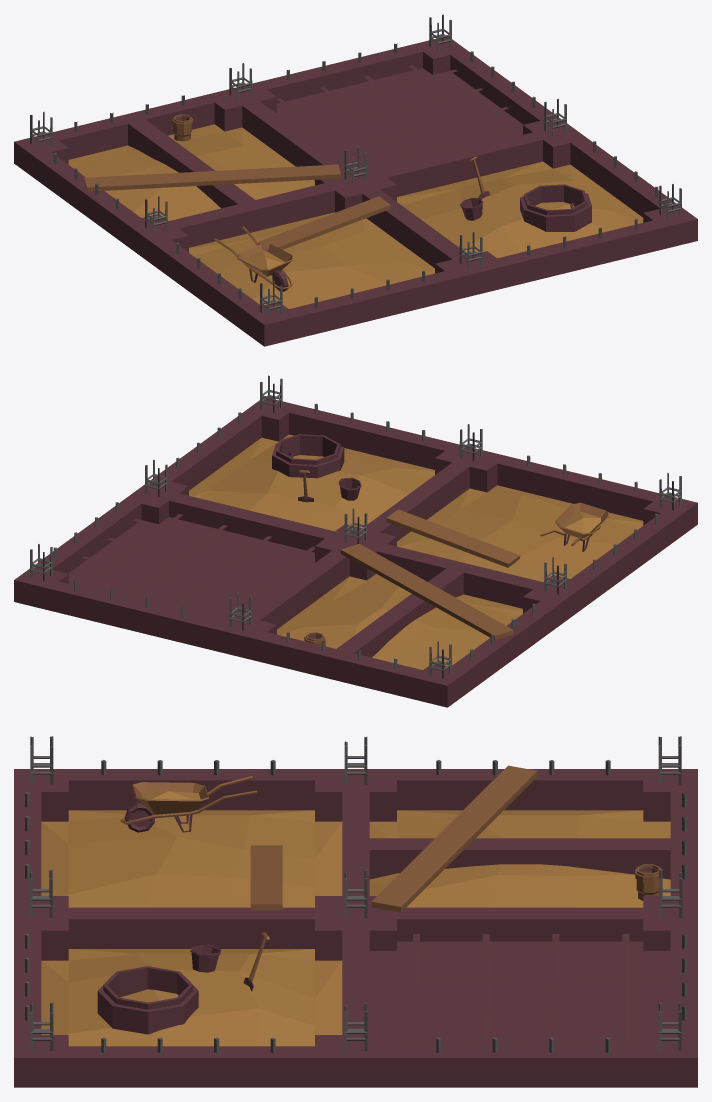
The model's file is construction-contruction-small.glb.
3 renders of one model, top to bottom at view 1: azimuth 30°, elevation 25°; view 2: azimuth 150°, elevation 25°; view 3: azimuth 270°, elevation 25°, orthographic. The views are drawn at different scales.
Parts seen in each view (by area): view 1: contruction-small-base, contruction-small-props; view 2: contruction-small-base, contruction-small-props; view 3: contruction-small-base, contruction-small-props.
Boxes of the visible parts, x1,y1,x2,y2 form: contruction-small-base: (14,14,697,346); contruction-small-props: (84,114,591,291); contruction-small-base: (14,375,697,707); contruction-small-props: (272,434,609,645); contruction-small-base: (14,736,697,1087); contruction-small-props: (97,765,662,1034).
Bounding box in the file's own units: 8.33 × 0.9286 × 8.33.
